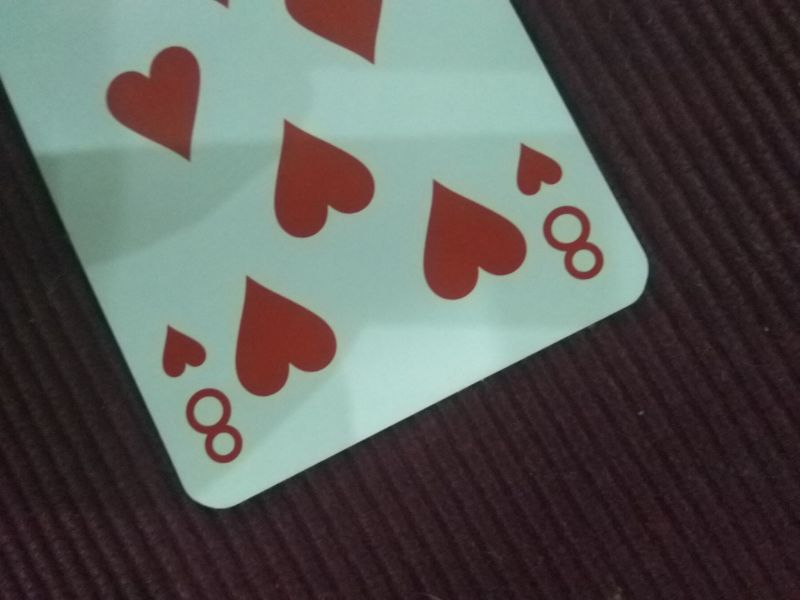8h: (511, 139, 610, 284), (157, 321, 249, 469)
